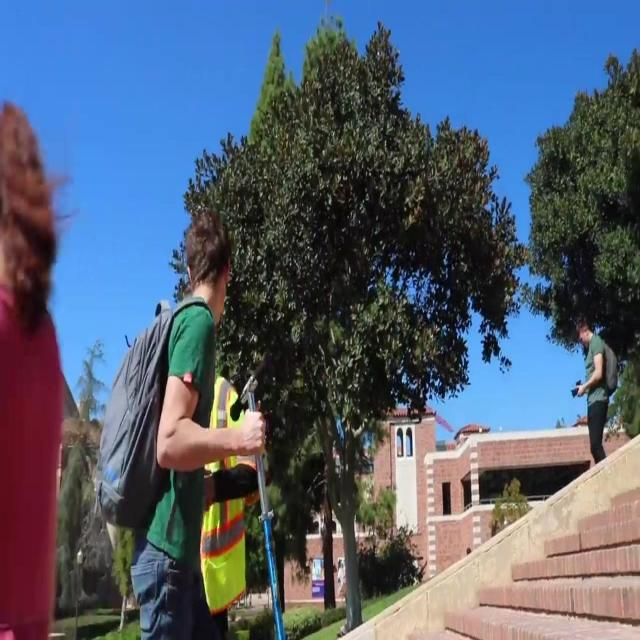Vest: (199, 373, 249, 614)
